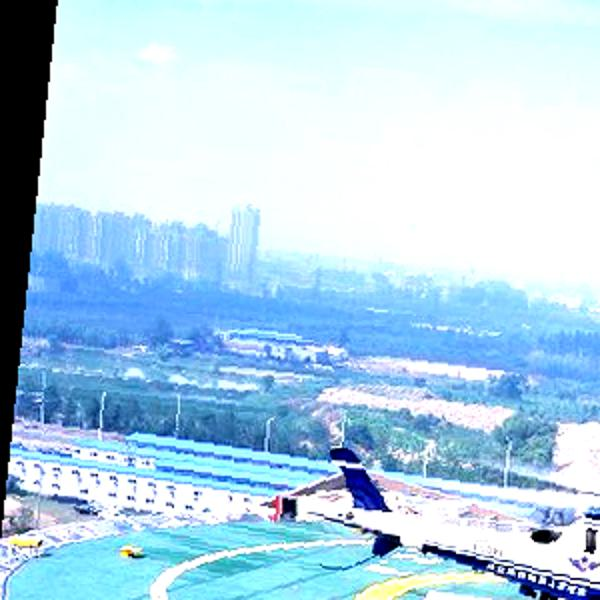Apron: (320, 503, 600, 600)
